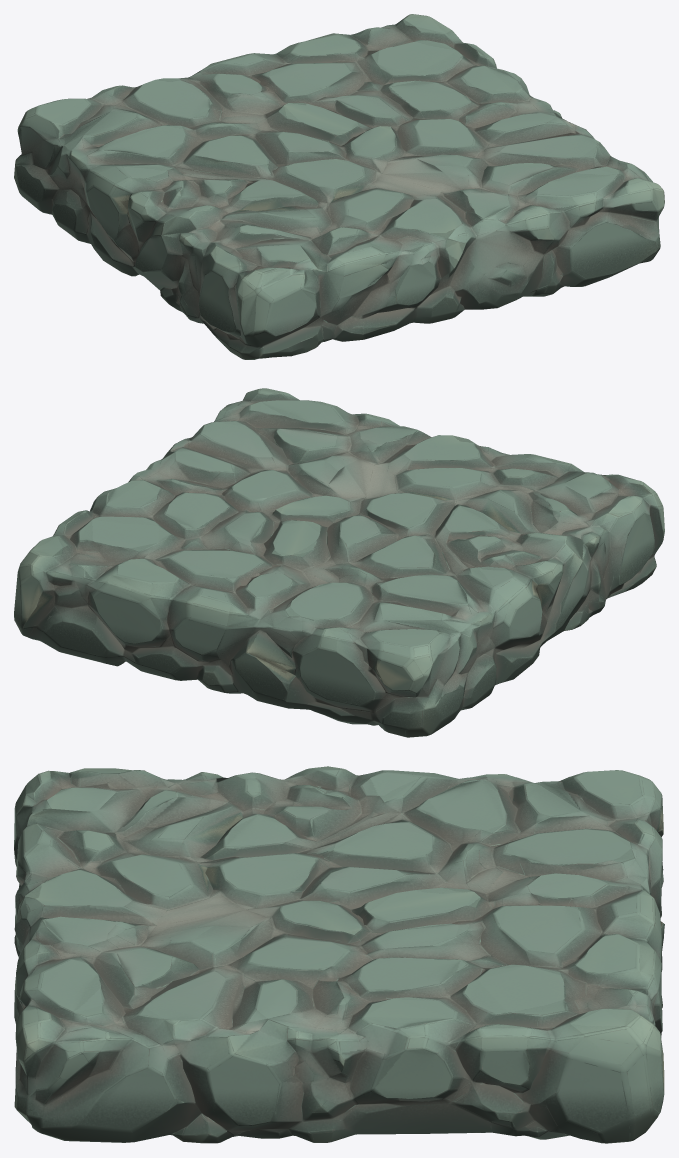
Rendered from Platform 03.fbx.
3 views of the same model, one above another, from view 1: azimuth 30°, elevation 25°; view 2: azimuth 150°, elevation 25°; view 3: azimuth 270°, elevation 25° (orthographic). The views are drawn at different scales.
Parts seen in each view (by area): view 1: Platform.003; view 2: Platform.003; view 3: Platform.003.
Boxes of the visible parts, box(x1,y1,x2,y2) form: Platform.003: box(14, 14, 664, 359); Platform.003: box(14, 388, 664, 737); Platform.003: box(14, 766, 664, 1143).
Bounding box in the file's own units: 633 × 133 × 633.
1 material, 1 textured.
